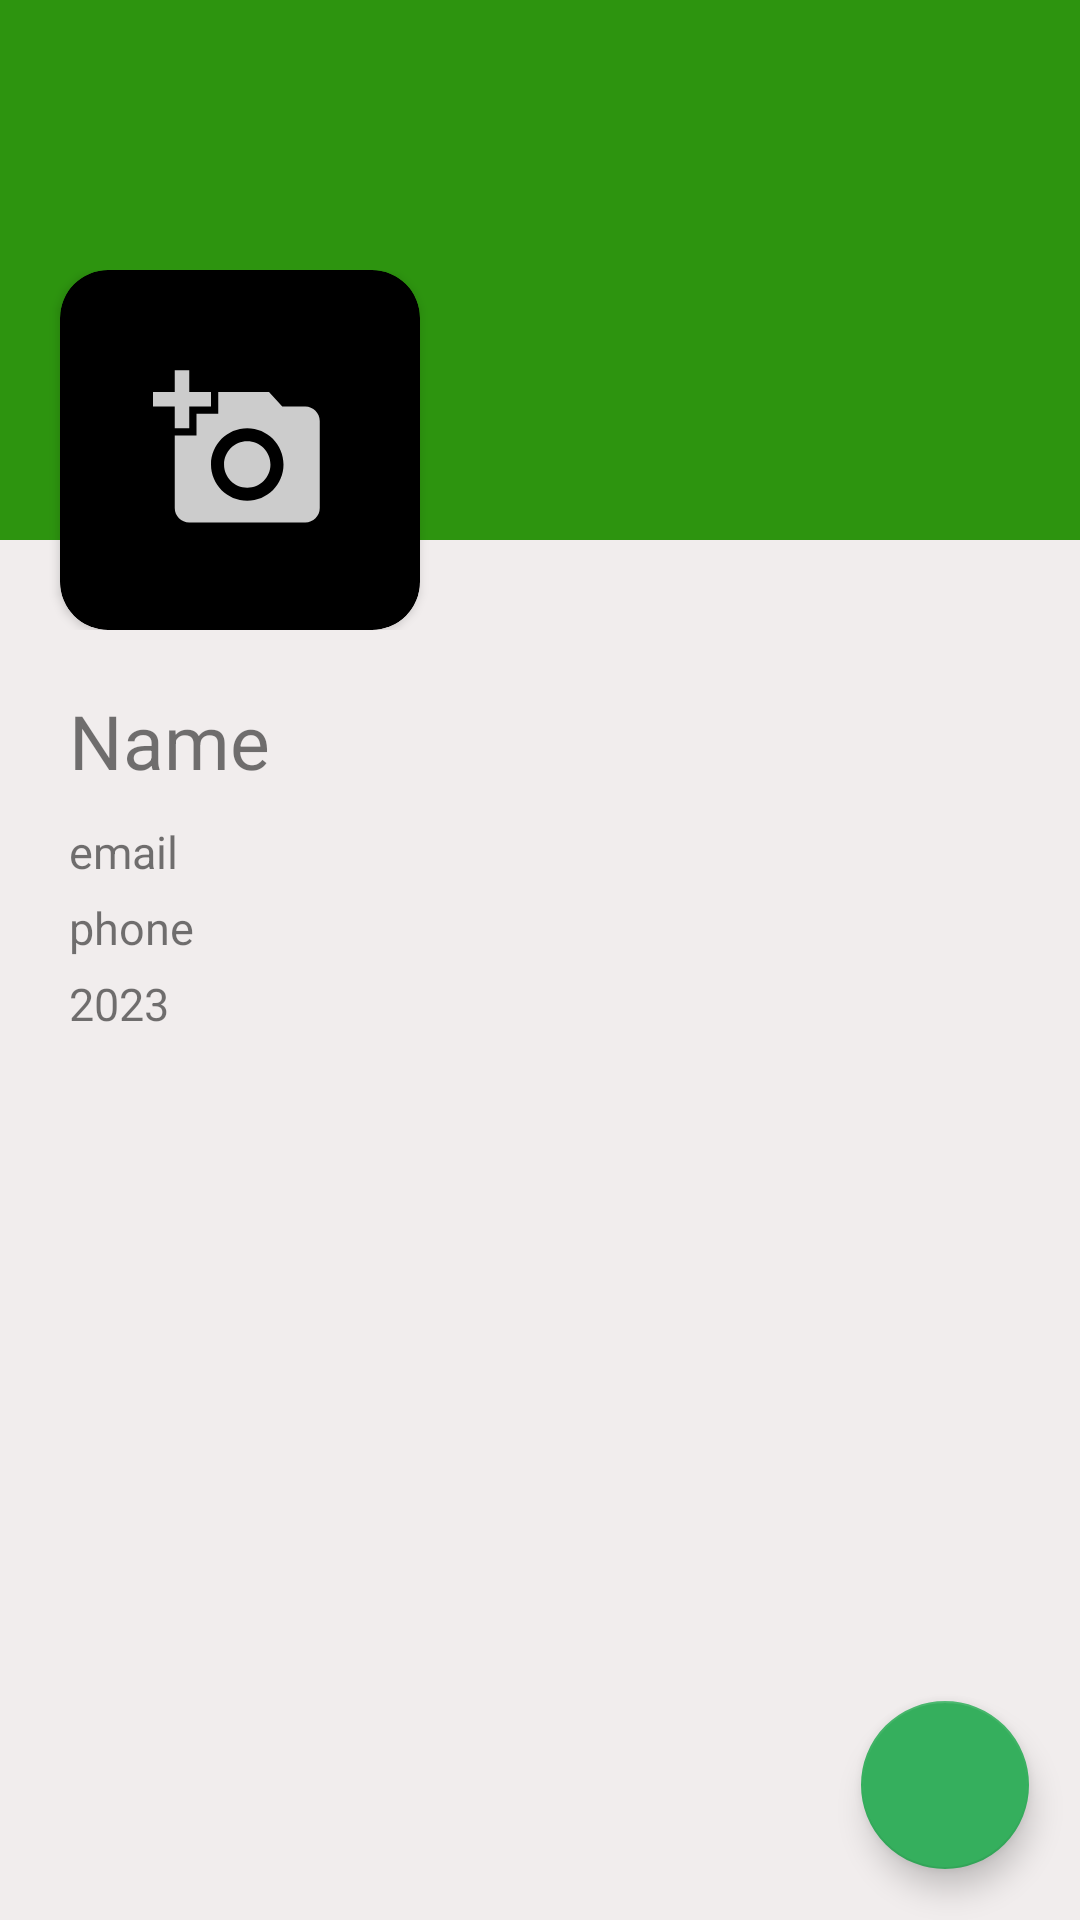

Icons on this 1080 x 1920 Android screen, each with its box as (x1, y1, x2, y2):
add: (60, 270, 420, 630)
